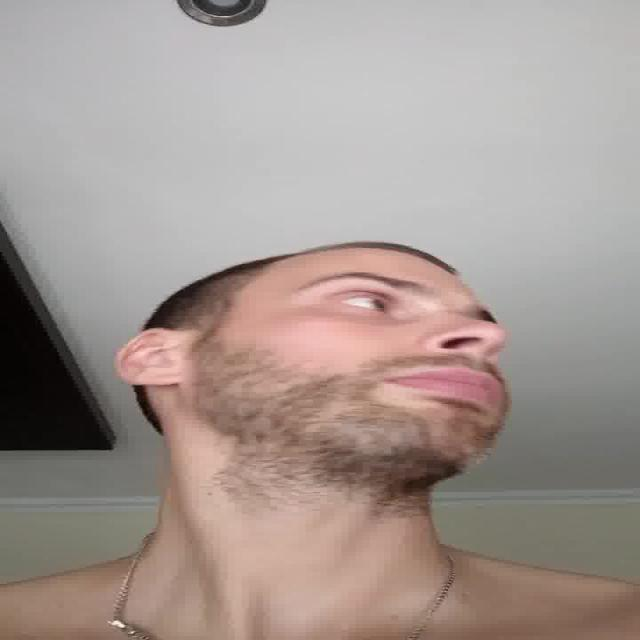earlobe: (116, 328, 188, 387)
